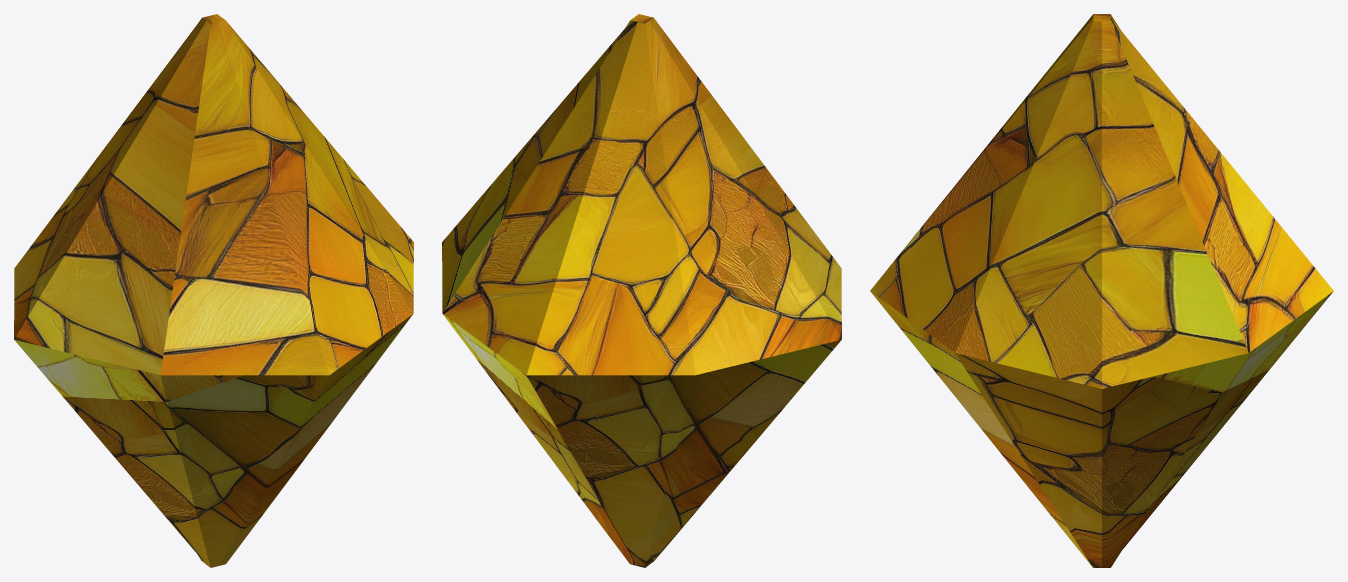
The model's file is gemstone2Yellow.glb.
3 views of the same model, side by side, from view 1: azimuth 30°, elevation 25°; view 2: azimuth 150°, elevation 25°; view 3: azimuth 270°, elevation 25° (orthographic).
Parts seen in each view (by area): view 1: gemstone1; view 2: gemstone1; view 3: gemstone1.
Part boxes in pixels (x1=…): gemstone1: x1=14, y1=14, x2=413, y2=567; gemstone1: x1=442, y1=14, x2=841, y2=567; gemstone1: x1=870, y1=14, x2=1333, y2=567.
Size of the model in its own units: 1 by 1.3 by 1.
1 material, 1 textured.
